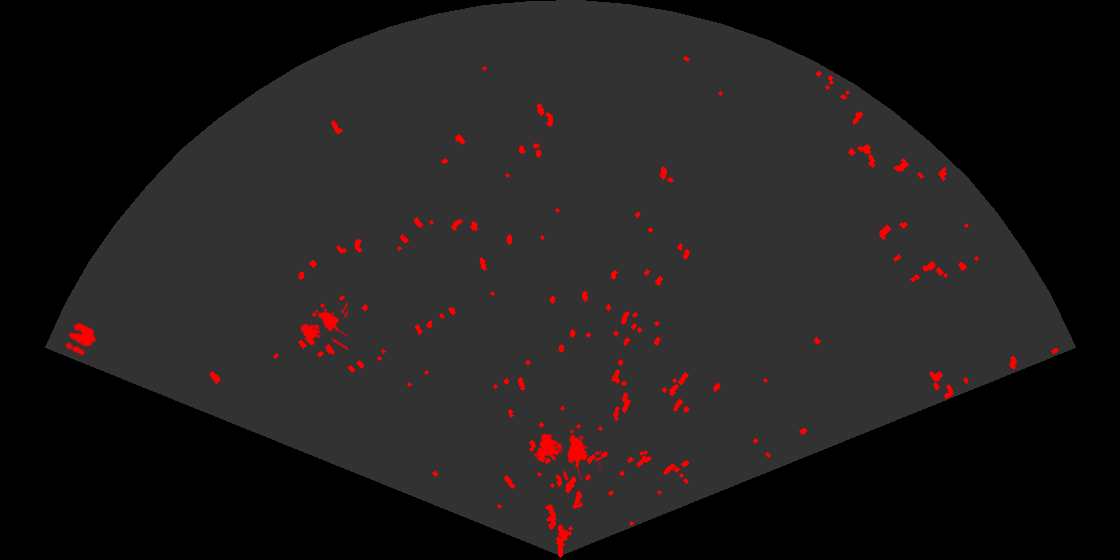ball: (64, 321, 98, 357)
cage: (535, 428, 601, 480), (299, 299, 348, 352)
